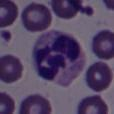N: (32, 30, 86, 86)
